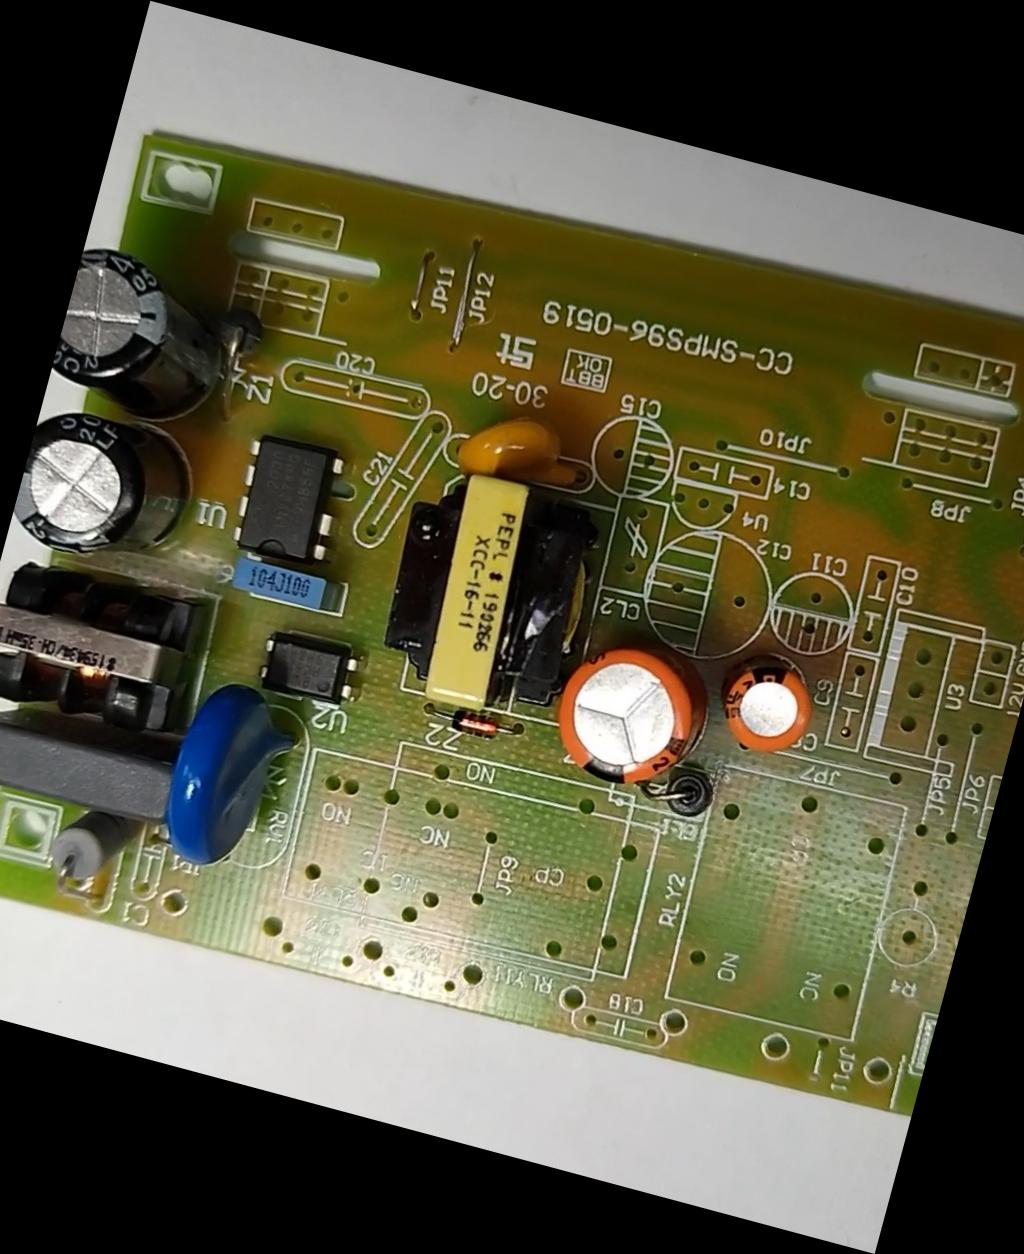Cap1: (543, 635, 717, 801)
Cap2: (714, 645, 828, 763)
Cap3: (5, 398, 216, 585)
Cap4: (45, 242, 251, 437)
MOSFET: (223, 427, 350, 568)
Mov: (150, 672, 317, 885)
Resistor: (38, 802, 140, 896)
Transformer: (365, 453, 616, 730), (0, 547, 215, 749)
